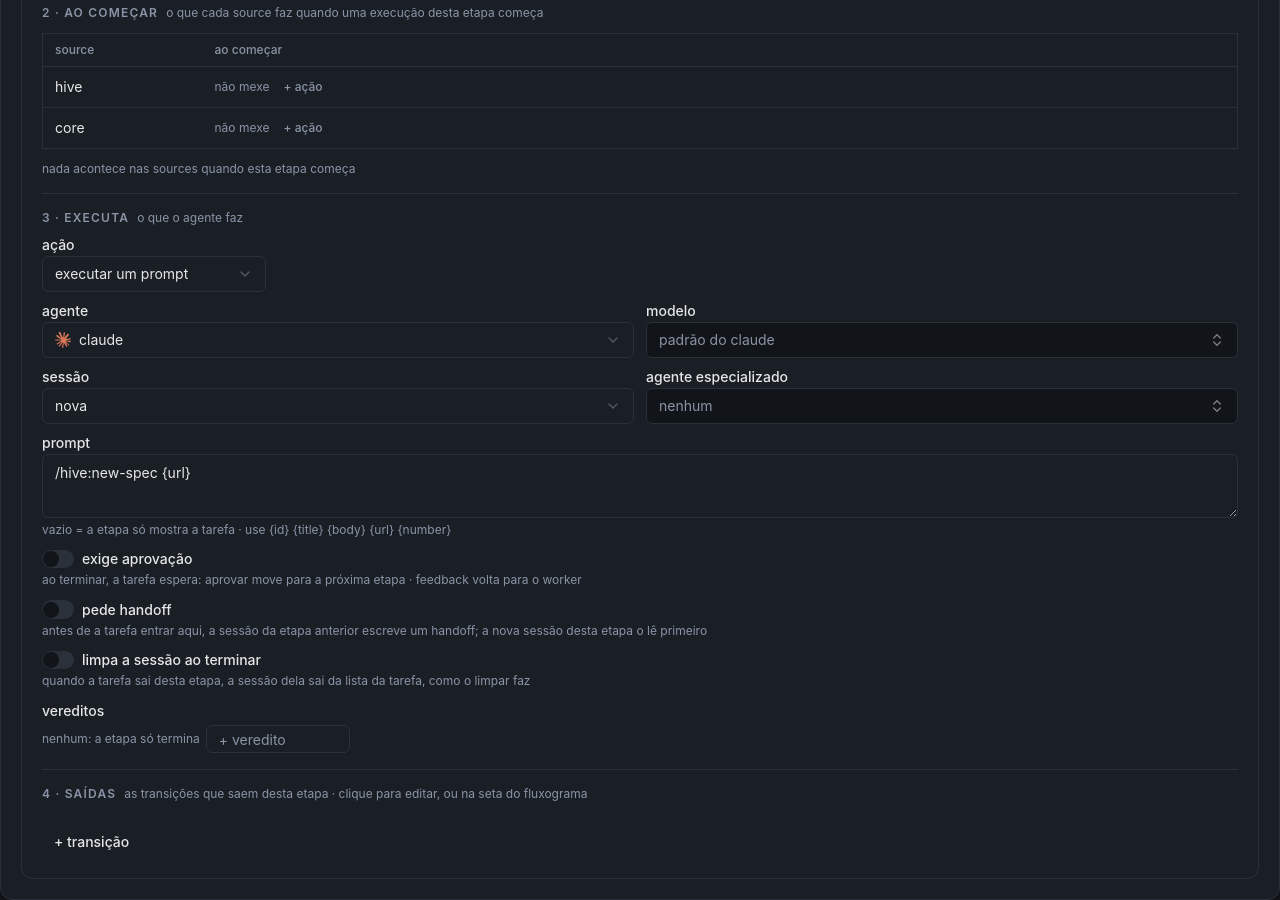
Test: executa: the clear-session switch on a prompt stage writes clearSession, and stays on for a stage that continues the session (#494)
(page scrolled)
Expected: the text "quando a tarefa sai desta etapa, a sessão dela sai da lista da tarefa, como o limpar faz" is shown, [42,673,530,688]
Click the switch named "limpa a sessão ao terminar" next to "limpa a sessão ao terminar" at (58, 660), box [42,651,74,669]
(page scrolled)
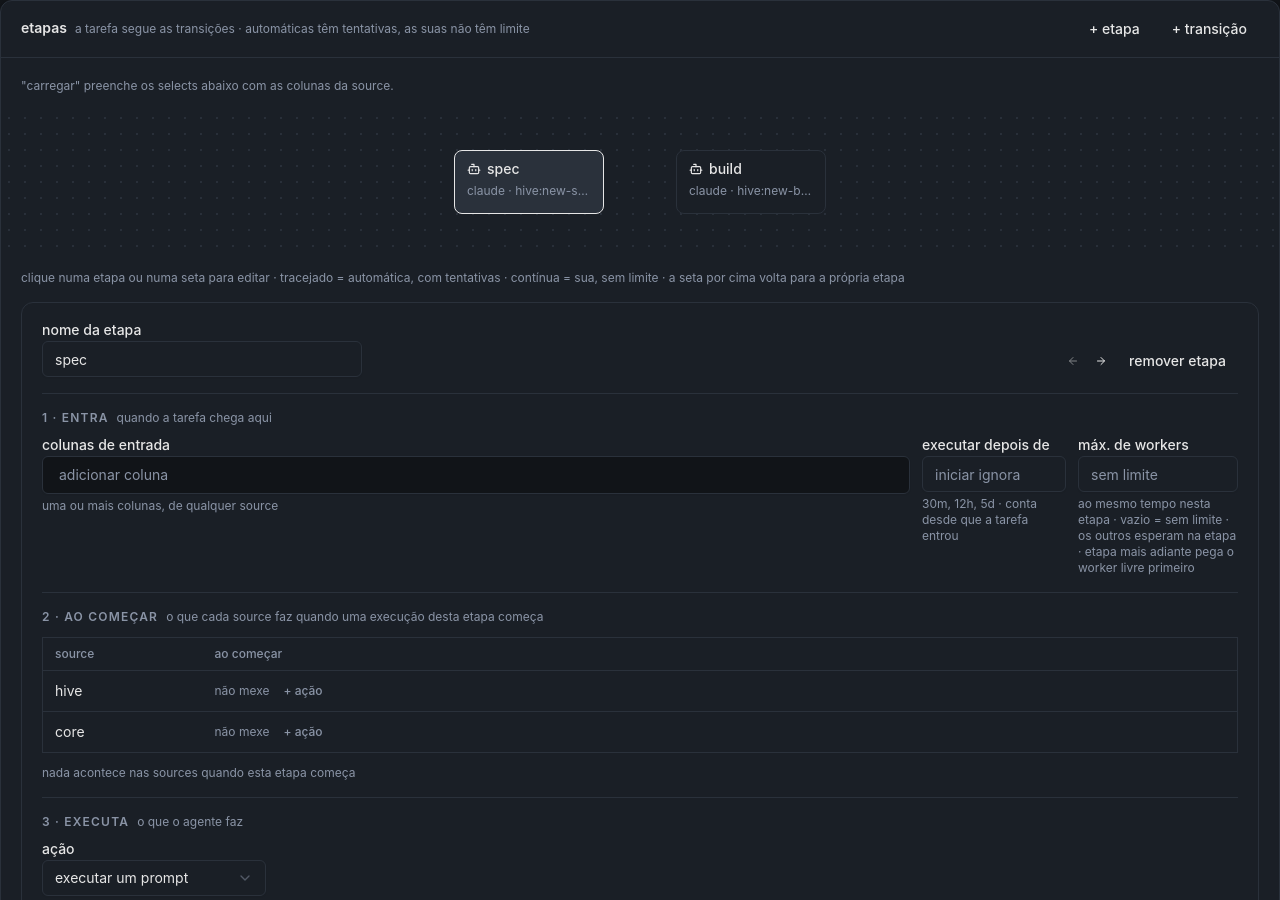
Click the button "build claude · hive:new-build" at (751, 182), box [676,150,826,214]
(page scrolled)
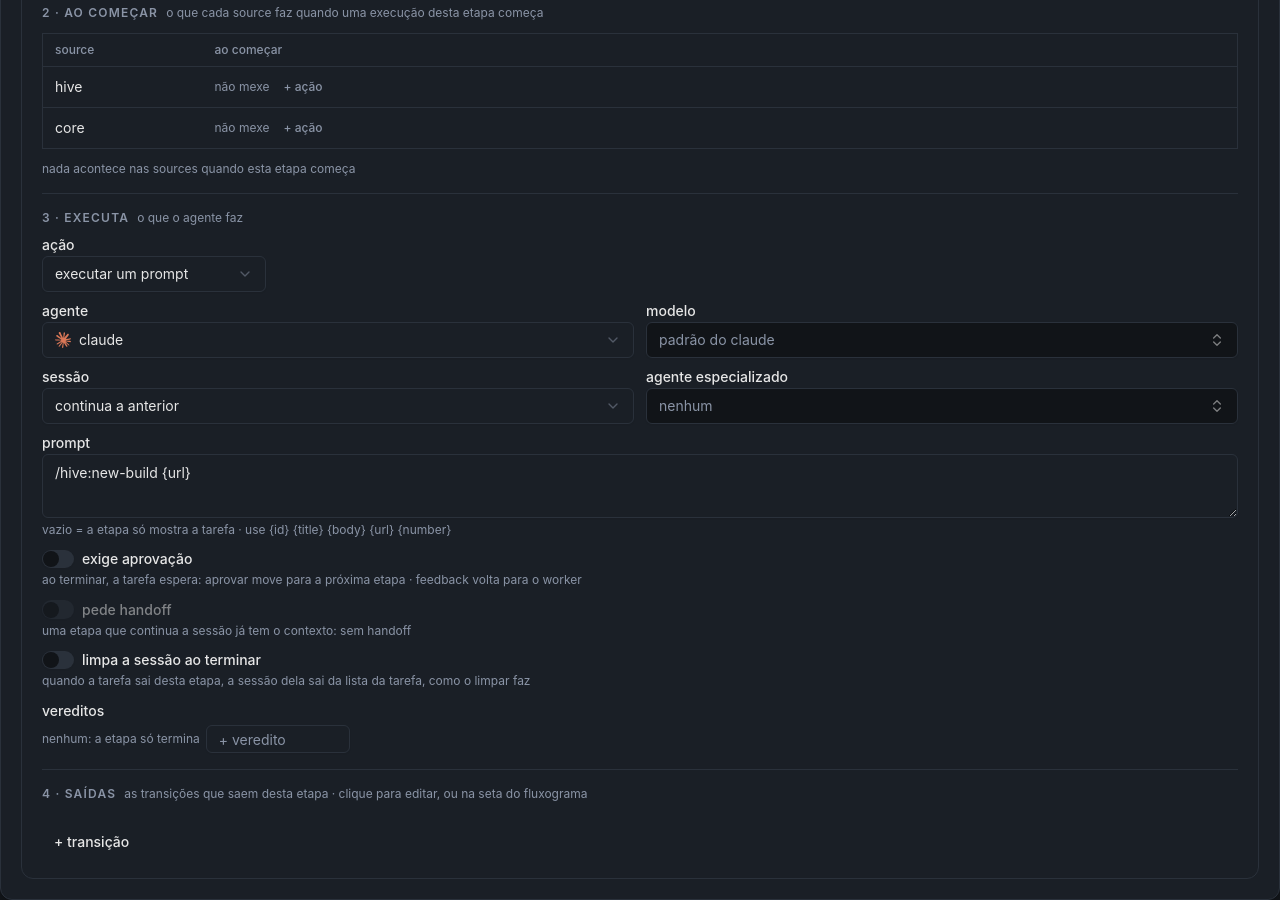
Expected: the switch named "limpa a sessão ao terminar" next to "limpa a sessão ao terminar" is enabled, [42,651,74,669]
